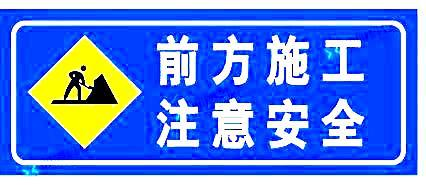sign: (8, 19, 408, 167)
